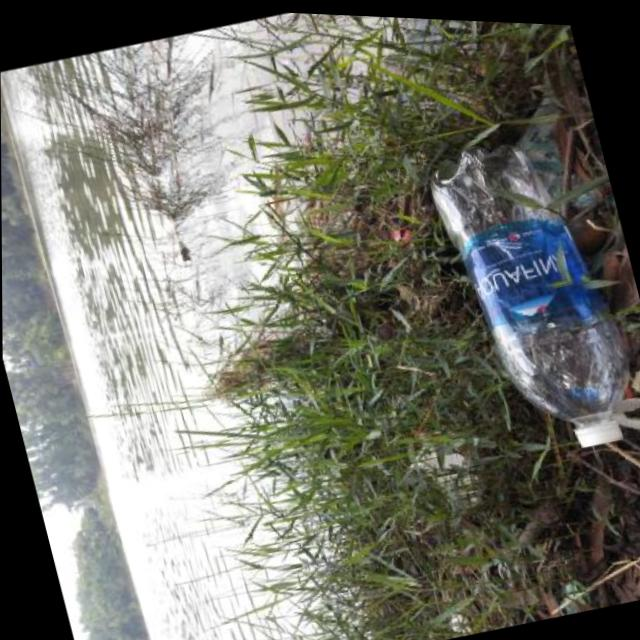plastic: (419, 121, 640, 472)
